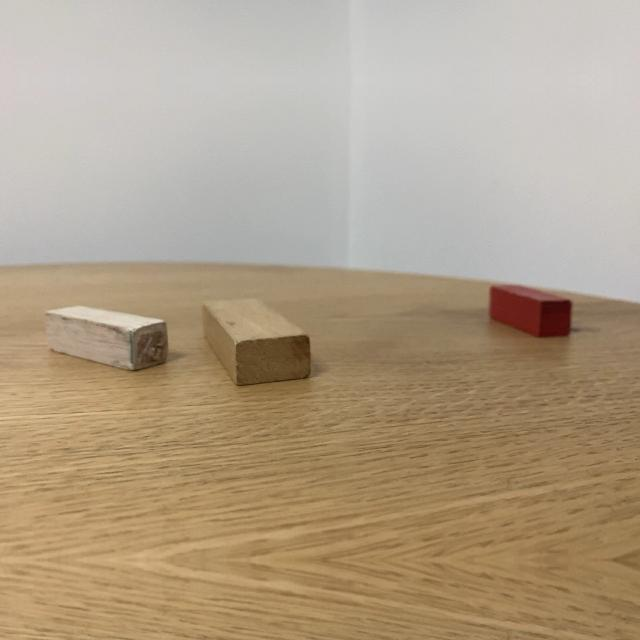block: (44, 305, 168, 371)
jenga: (203, 298, 311, 386)
red block: (491, 286, 571, 338)
